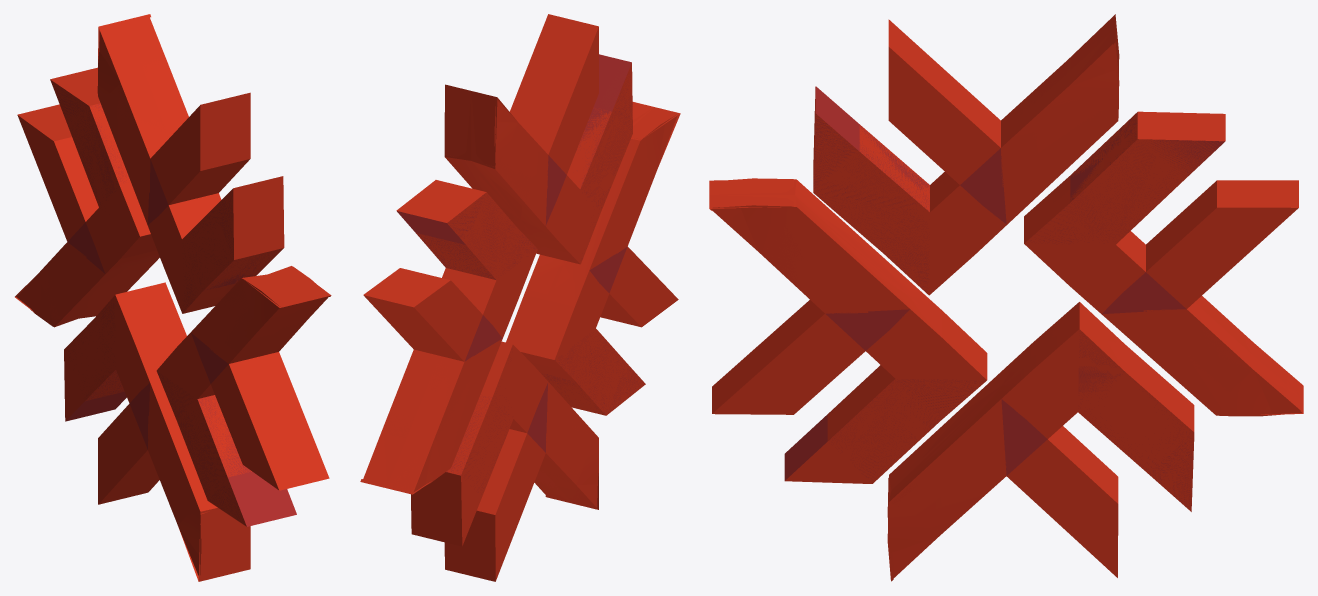
Rendered from fanshawe.glb.
3 views of the same model, side by side, from view 1: azimuth 30°, elevation 25°; view 2: azimuth 150°, elevation 25°; view 3: azimuth 270°, elevation 25° (orthographic). The views are drawn at different scales.
Parts seen in each view (by area): view 1: Cube.002; view 2: Cube.002; view 3: Cube.002.
Boxes of the visible parts, left/top/right/bottom form: Cube.002: left=15, top=14, right=331, bottom=581; Cube.002: left=360, top=14, right=680, bottom=581; Cube.002: left=709, top=14, right=1303, bottom=581.
Bounding box in the file's own units: 0.5694 × 5.06 × 5.05.
